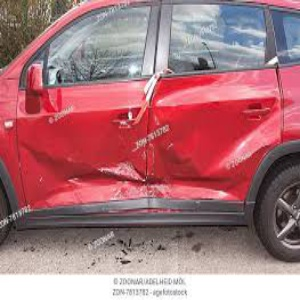door: (61, 157, 239, 211)
